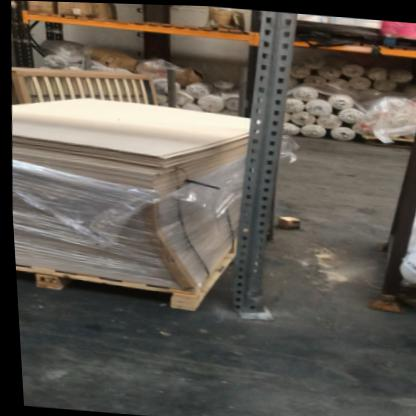vertical_damage: (226, 266, 279, 331)
